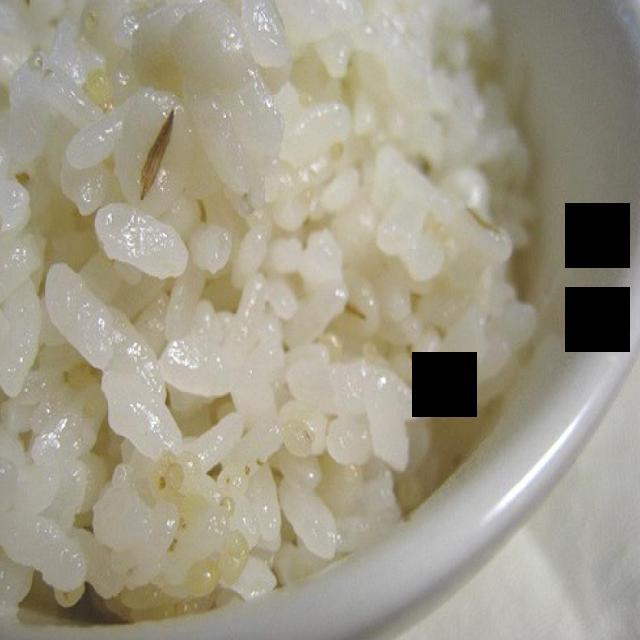rice: (0, 0, 535, 622)
